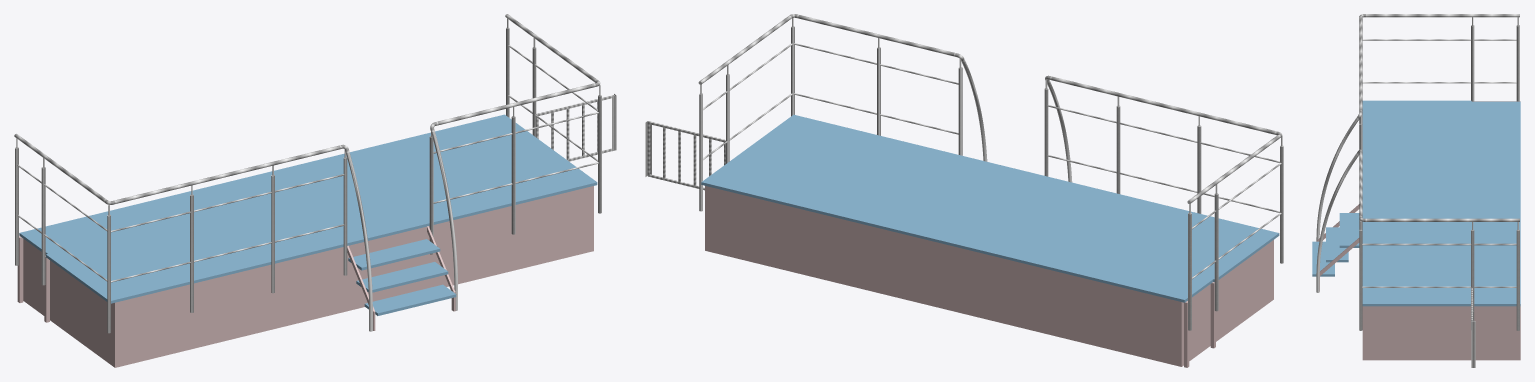
Rendered from guava-0.glb.
3 renders of one model, left to right at view 1: azimuth 30°, elevation 25°; view 2: azimuth 150°, elevation 25°; view 3: azimuth 270°, elevation 25°, orthographic. The views are drawn at different scales.
Visible parts, largest first — view 1: Material2 (×2), Material3; view 2: Material2 (×2), Material3; view 3: Material3, Material2 (×2).
Part boxes in pixels (x1,y1,x2,y2): Material2 (×2): (14, 14, 616, 367); Material3: (19, 114, 597, 315); Material2 (×2): (645, 14, 1283, 367); Material3: (701, 114, 1279, 302); Material3: (1312, 100, 1520, 306); Material2 (×2): (1316, 14, 1520, 367).
Bounding box in the file's own units: 259 × 72.64 × 95.46.
Materials: 4 (1 with a texture image).
